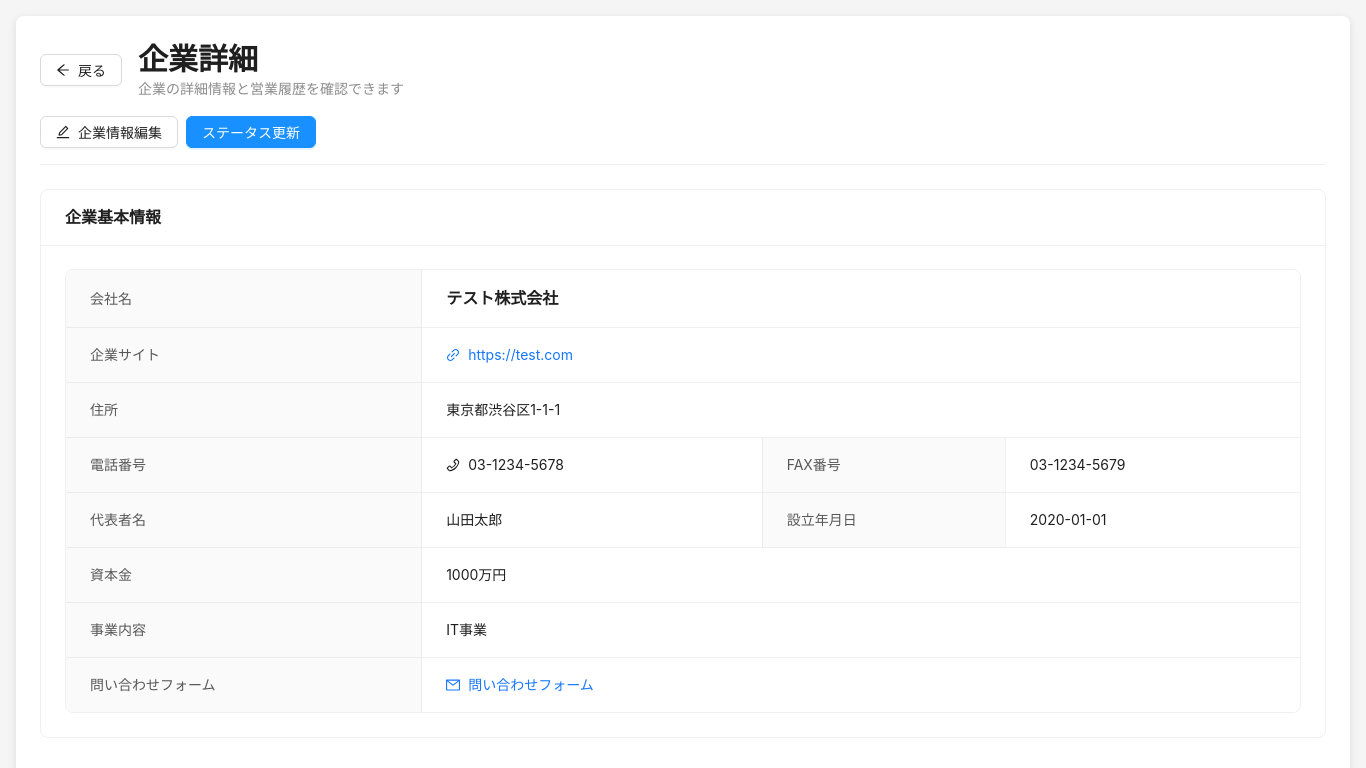
Scenario: CompanyDetail › should open edit modal when edit button clicked
Click the button "企業情報編集": (109, 132) [40,116,178,148]
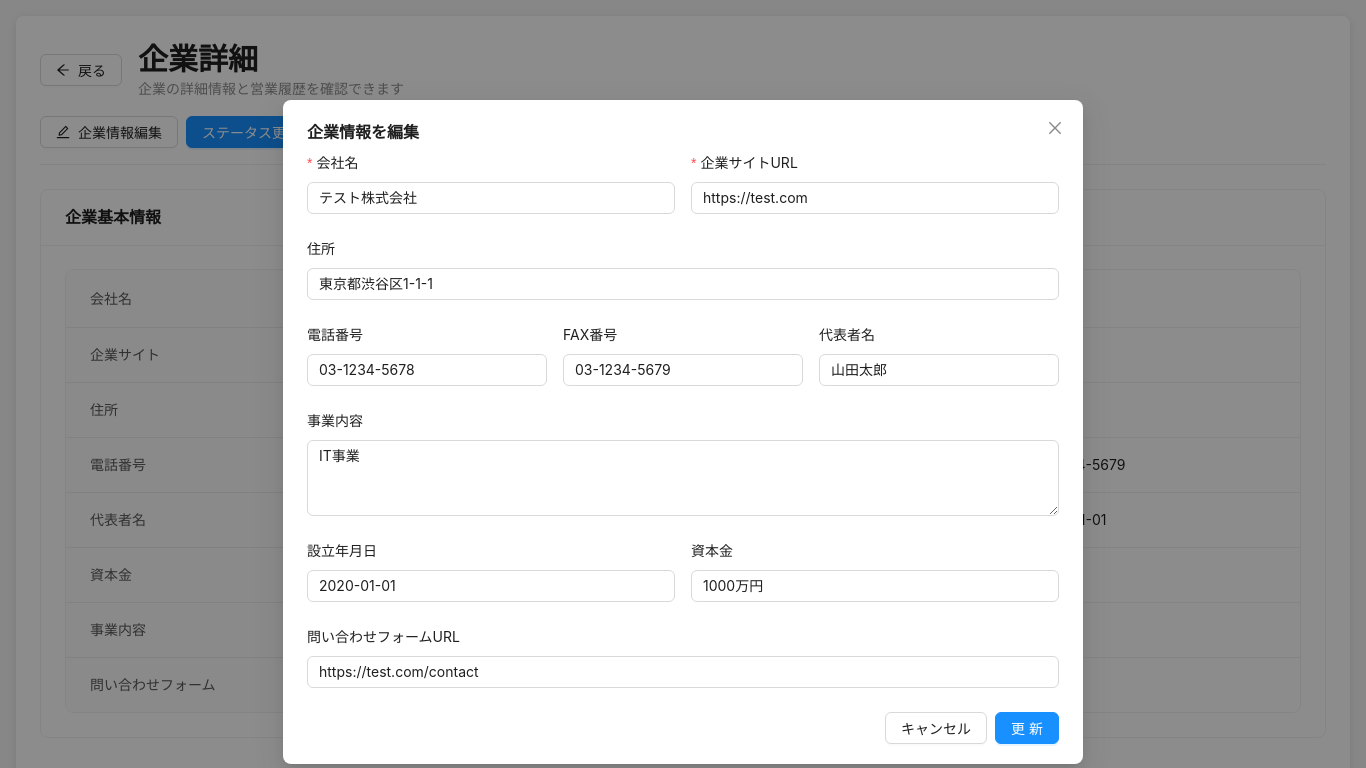
Expected: the text "企業情報を編集" is shown, [307,122,419,142]
